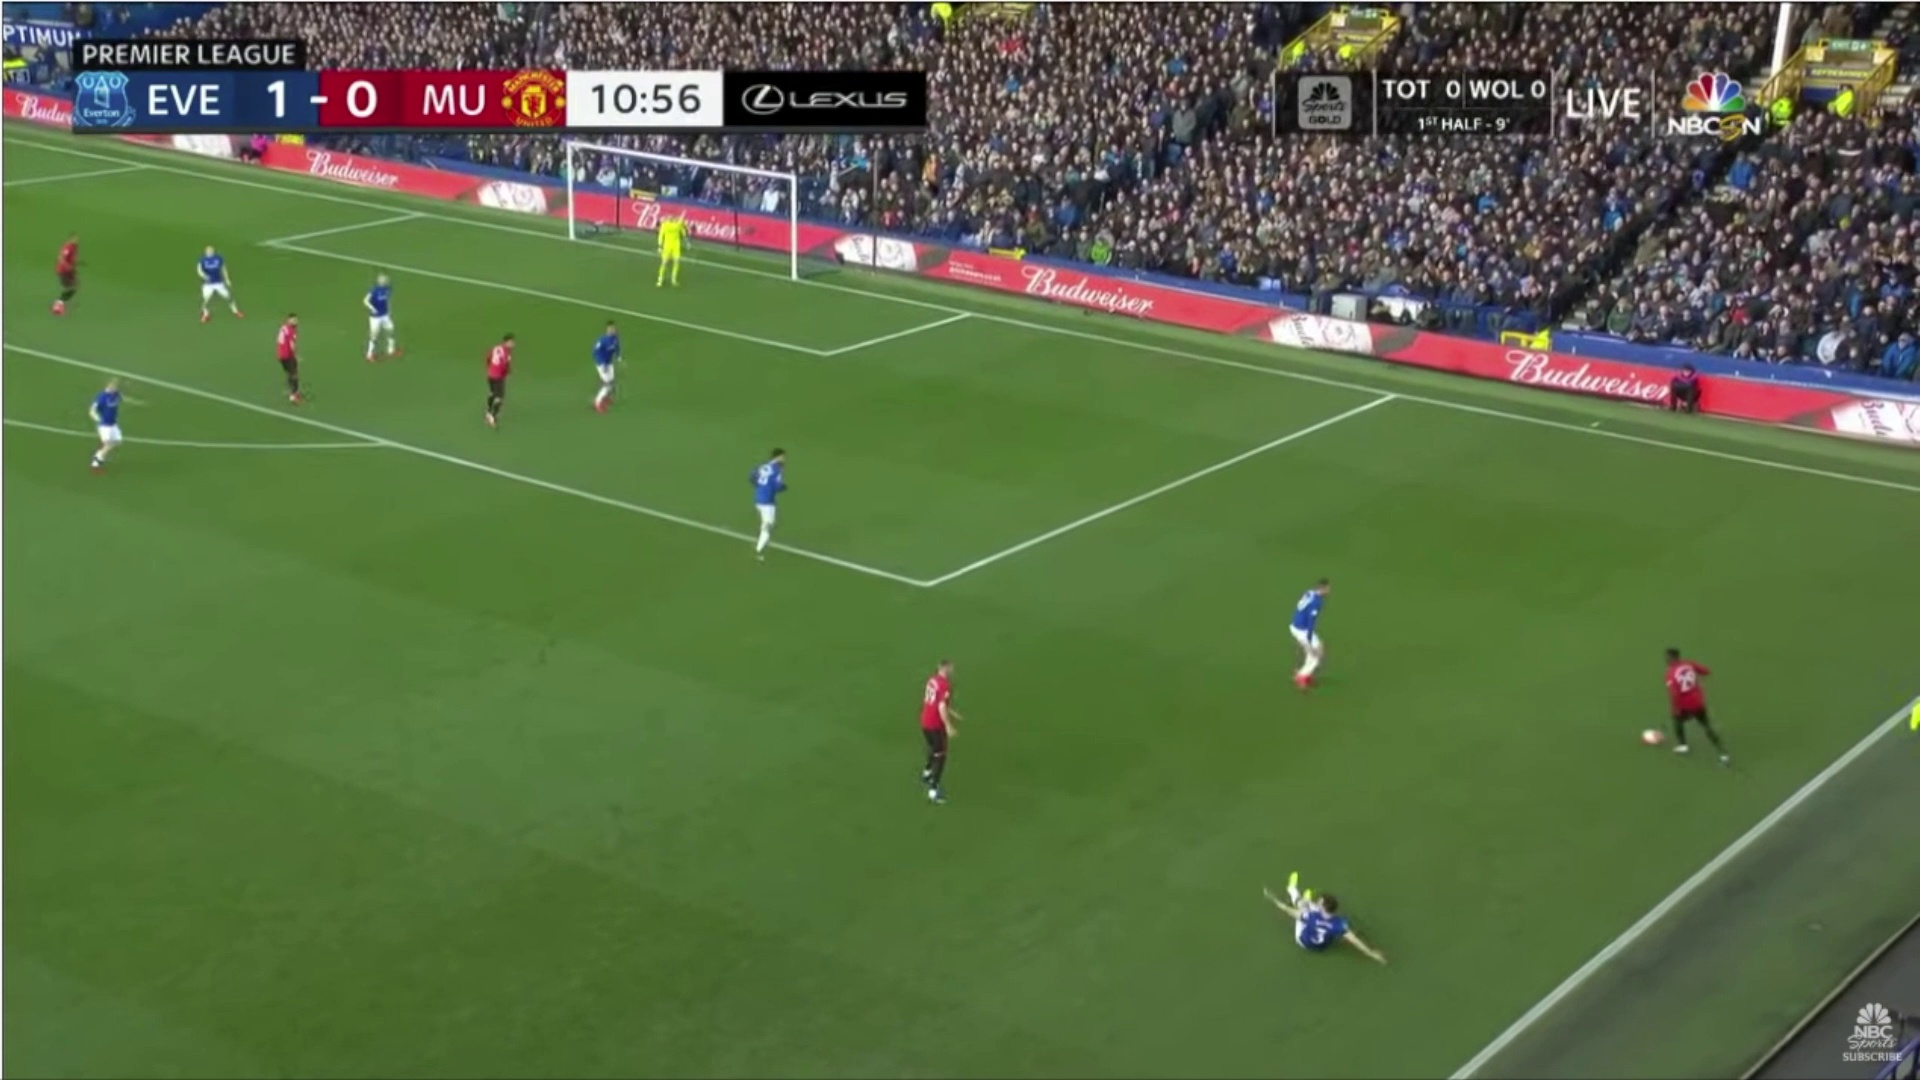ball: (1625, 708, 1672, 758)
player: (1233, 858, 1412, 973), (899, 650, 987, 831), (1662, 625, 1754, 777), (1266, 565, 1360, 696), (72, 363, 145, 490), (735, 431, 802, 567), (575, 308, 647, 429), (174, 229, 249, 337), (458, 327, 525, 437), (37, 215, 102, 325), (258, 304, 322, 413), (349, 258, 414, 362), (639, 198, 700, 294)
